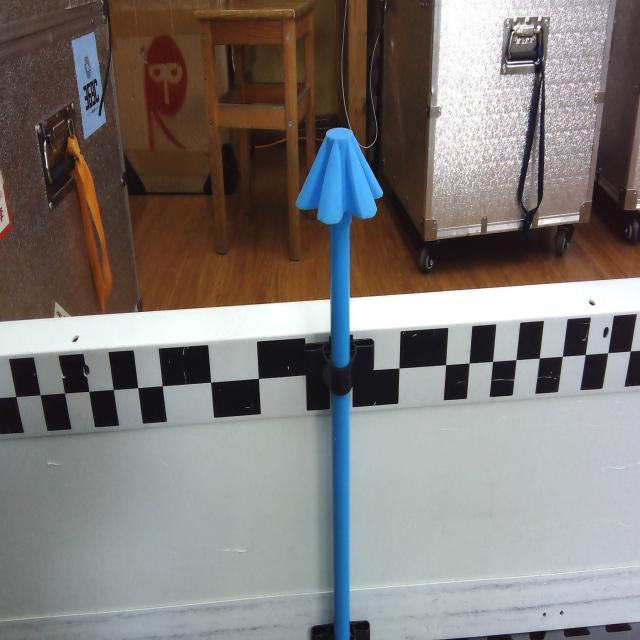zblue-Stake-Head: (296, 126, 383, 227)
